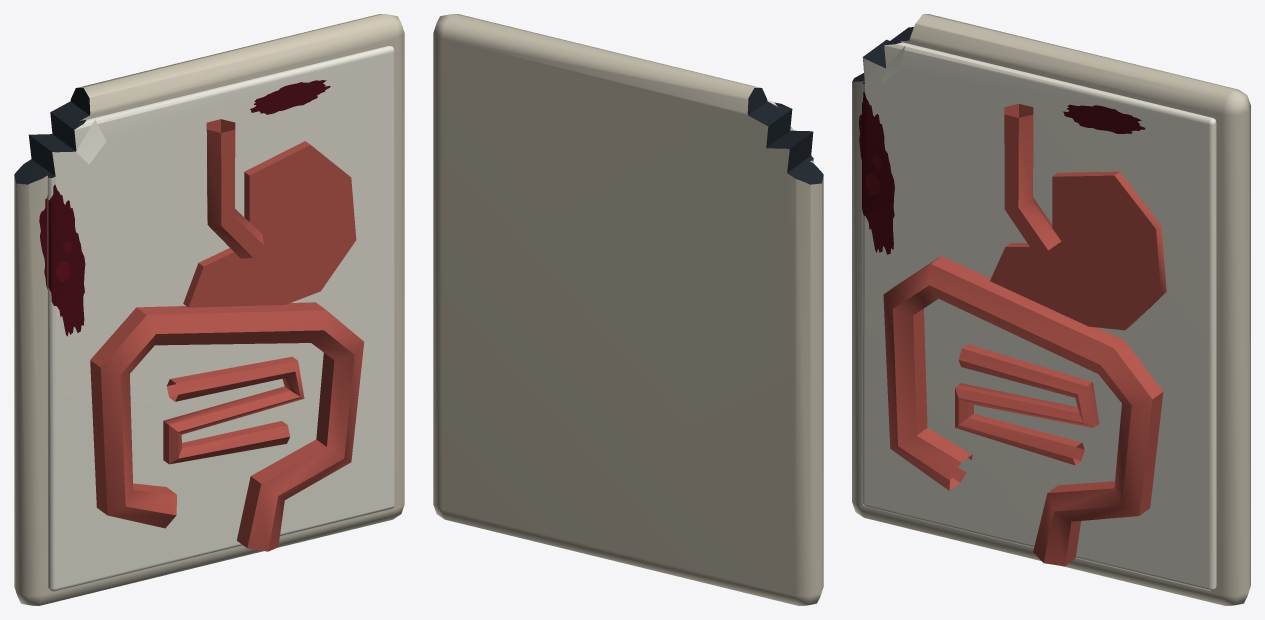
Rendered from clinical_art_digestive.glb.
3 views of the same model, side by side, from view 1: azimuth 30°, elevation 25°; view 2: azimuth 150°, elevation 25°; view 3: azimuth 330°, elevation 25° (orthographic). The views are drawn at different scales.
Parts seen in each view (by area): view 1: clinical_art_digestive_Outbreak_Static; view 2: clinical_art_digestive_Outbreak_Static; view 3: clinical_art_digestive_Outbreak_Static.
Part boxes in pixels (x1,y1,x2,y2): clinical_art_digestive_Outbreak_Static: (14, 14, 404, 605); clinical_art_digestive_Outbreak_Static: (433, 14, 823, 605); clinical_art_digestive_Outbreak_Static: (852, 14, 1250, 605).
Bounding box in the file's own units: 0.76 × 0.95 × 0.146.
